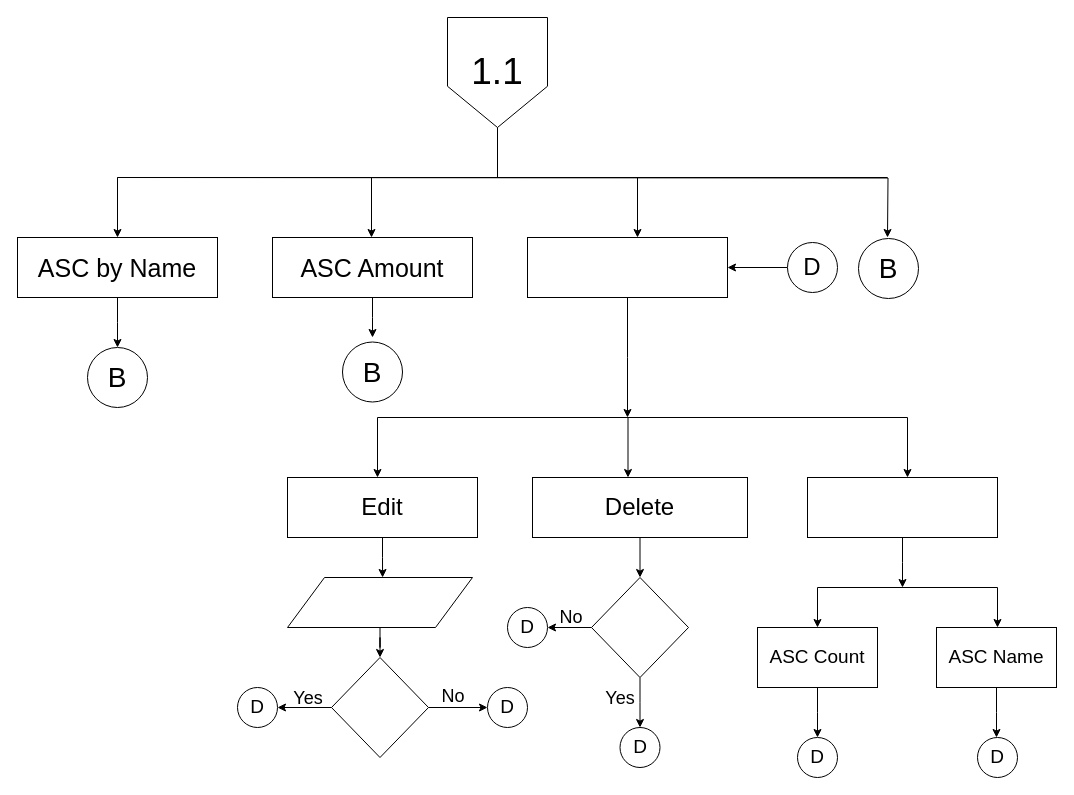
Some shapes in this 1074 by 795 pixel diagram are drawn without their labels. The centre of each missing label's shape, as x and y in pixels:
"Agency List" goes at (627,267).
"Are you sure?" goes at (639,627).
"save?" goes at (379,707).
"Update" goes at (379,602).
"View" goes at (902,507).
